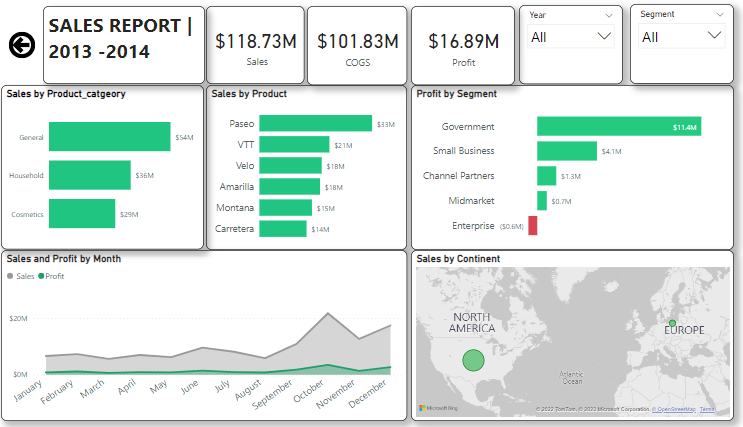

This screenshot's page, from the dashboard's own definition file:
{"tool":"powerbi","page":{"name":"REPORT","canvas":[1280,720],"ordinal":1},"visuals":[{"type":"clusteredBarChart","fields":{"Category":["Facts Table.Product"],"Y":["Sum(Facts Table. Sales)"]},"box":[360,145,335,275],"z":0},{"type":"areaChart","fields":{"Category":["Calendar Table.Month"],"Y":["Sum(Facts Table. Sales)","Sum(Facts Table.Profit)"]},"box":[18.3,420,676.7,285],"z":1000},{"type":"slicer","fields":{"Values":["Calendar Table.Year_2"]},"box":[882.3,12.3,173,132],"z":2000},{"type":"clusteredBarChart","fields":{"Category":["Product.Product_catgeory"],"Y":["Sum(Facts Table. Sales)"]},"box":[18.3,145,338.3,274],"z":3000},{"type":"clusteredBarChart","fields":{"Category":["Facts Table.Segment"],"Y":["Sum(Facts Table.Profit)"]},"box":[701.7,145,538.3,275],"z":4000},{"type":"slicer","fields":{"Values":["Facts Table.Segment"]},"box":[1066.7,10,173.3,133.3],"z":5000},{"type":"card","fields":{"Values":["Sum(Facts Table. Sales)"]},"box":[359.9,13.5,164,130],"z":6000},{"type":"card","fields":{"Values":["Sum(Facts Table.COGS)"]},"box":[528.3,13.3,166.7,131.7],"z":7000},{"type":"textbox","box":[88.3,13.3,270,130],"z":8000},{"type":"card","fields":{"Values":["Sum(Facts Table.Profit)"]},"box":[701.7,13.3,173.3,131.7],"z":9000},{"type":"map","title":" Sales by Continent","fields":{"Size":["Sum(Facts Table. Sales)"],"Category":["Location.Continent2"]},"box":[701.7,420,538.3,285],"z":10000},{"type":"actionButton","box":[18.3,13.3,70,130],"z":11000}]}

Visuals, with their boxes in screenshot pixels (x1, y1, x2, y2), scaled from the page's 1280x720 canvas onto the 743x427 screenshot:
clusteredBarChart - Facts Table.Product x Sum(Facts Table. Sales): select_region(209, 86, 403, 249)
areaChart - Calendar Table.Month x Sum(Facts Table. Sales): select_region(11, 249, 403, 418)
slicer - Calendar Table.Year_2: select_region(512, 7, 613, 86)
clusteredBarChart - Product.Product_catgeory x Sum(Facts Table. Sales): select_region(11, 86, 207, 248)
clusteredBarChart - Facts Table.Segment x Sum(Facts Table.Profit): select_region(407, 86, 720, 249)
slicer - Facts Table.Segment: select_region(619, 6, 720, 85)
card - Sum(Facts Table. Sales): select_region(209, 8, 304, 85)
card - Sum(Facts Table.COGS): select_region(307, 8, 403, 86)
textbox: select_region(51, 8, 208, 85)
card - Sum(Facts Table.Profit): select_region(407, 8, 508, 86)
" Sales by Continent" map: select_region(407, 249, 720, 418)
actionButton: select_region(11, 8, 51, 85)
